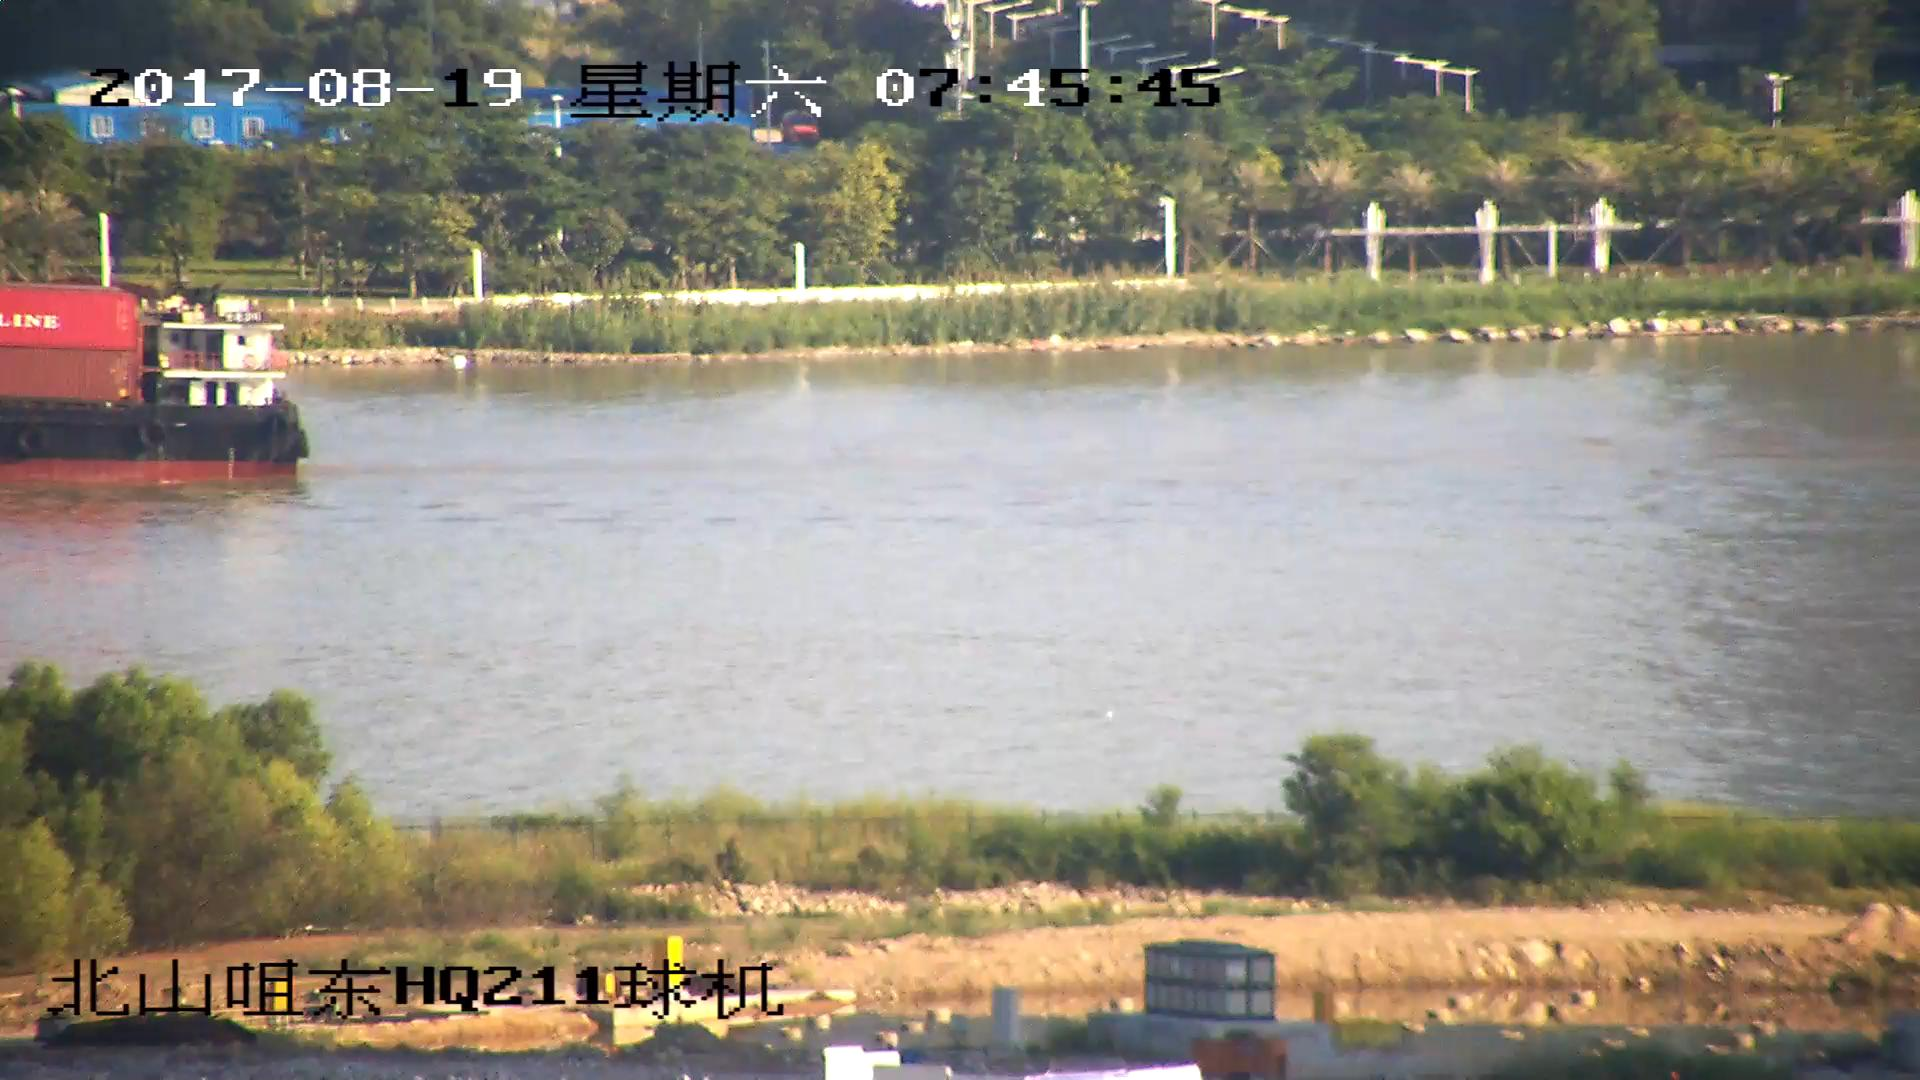container ship: (1, 278, 307, 486)
